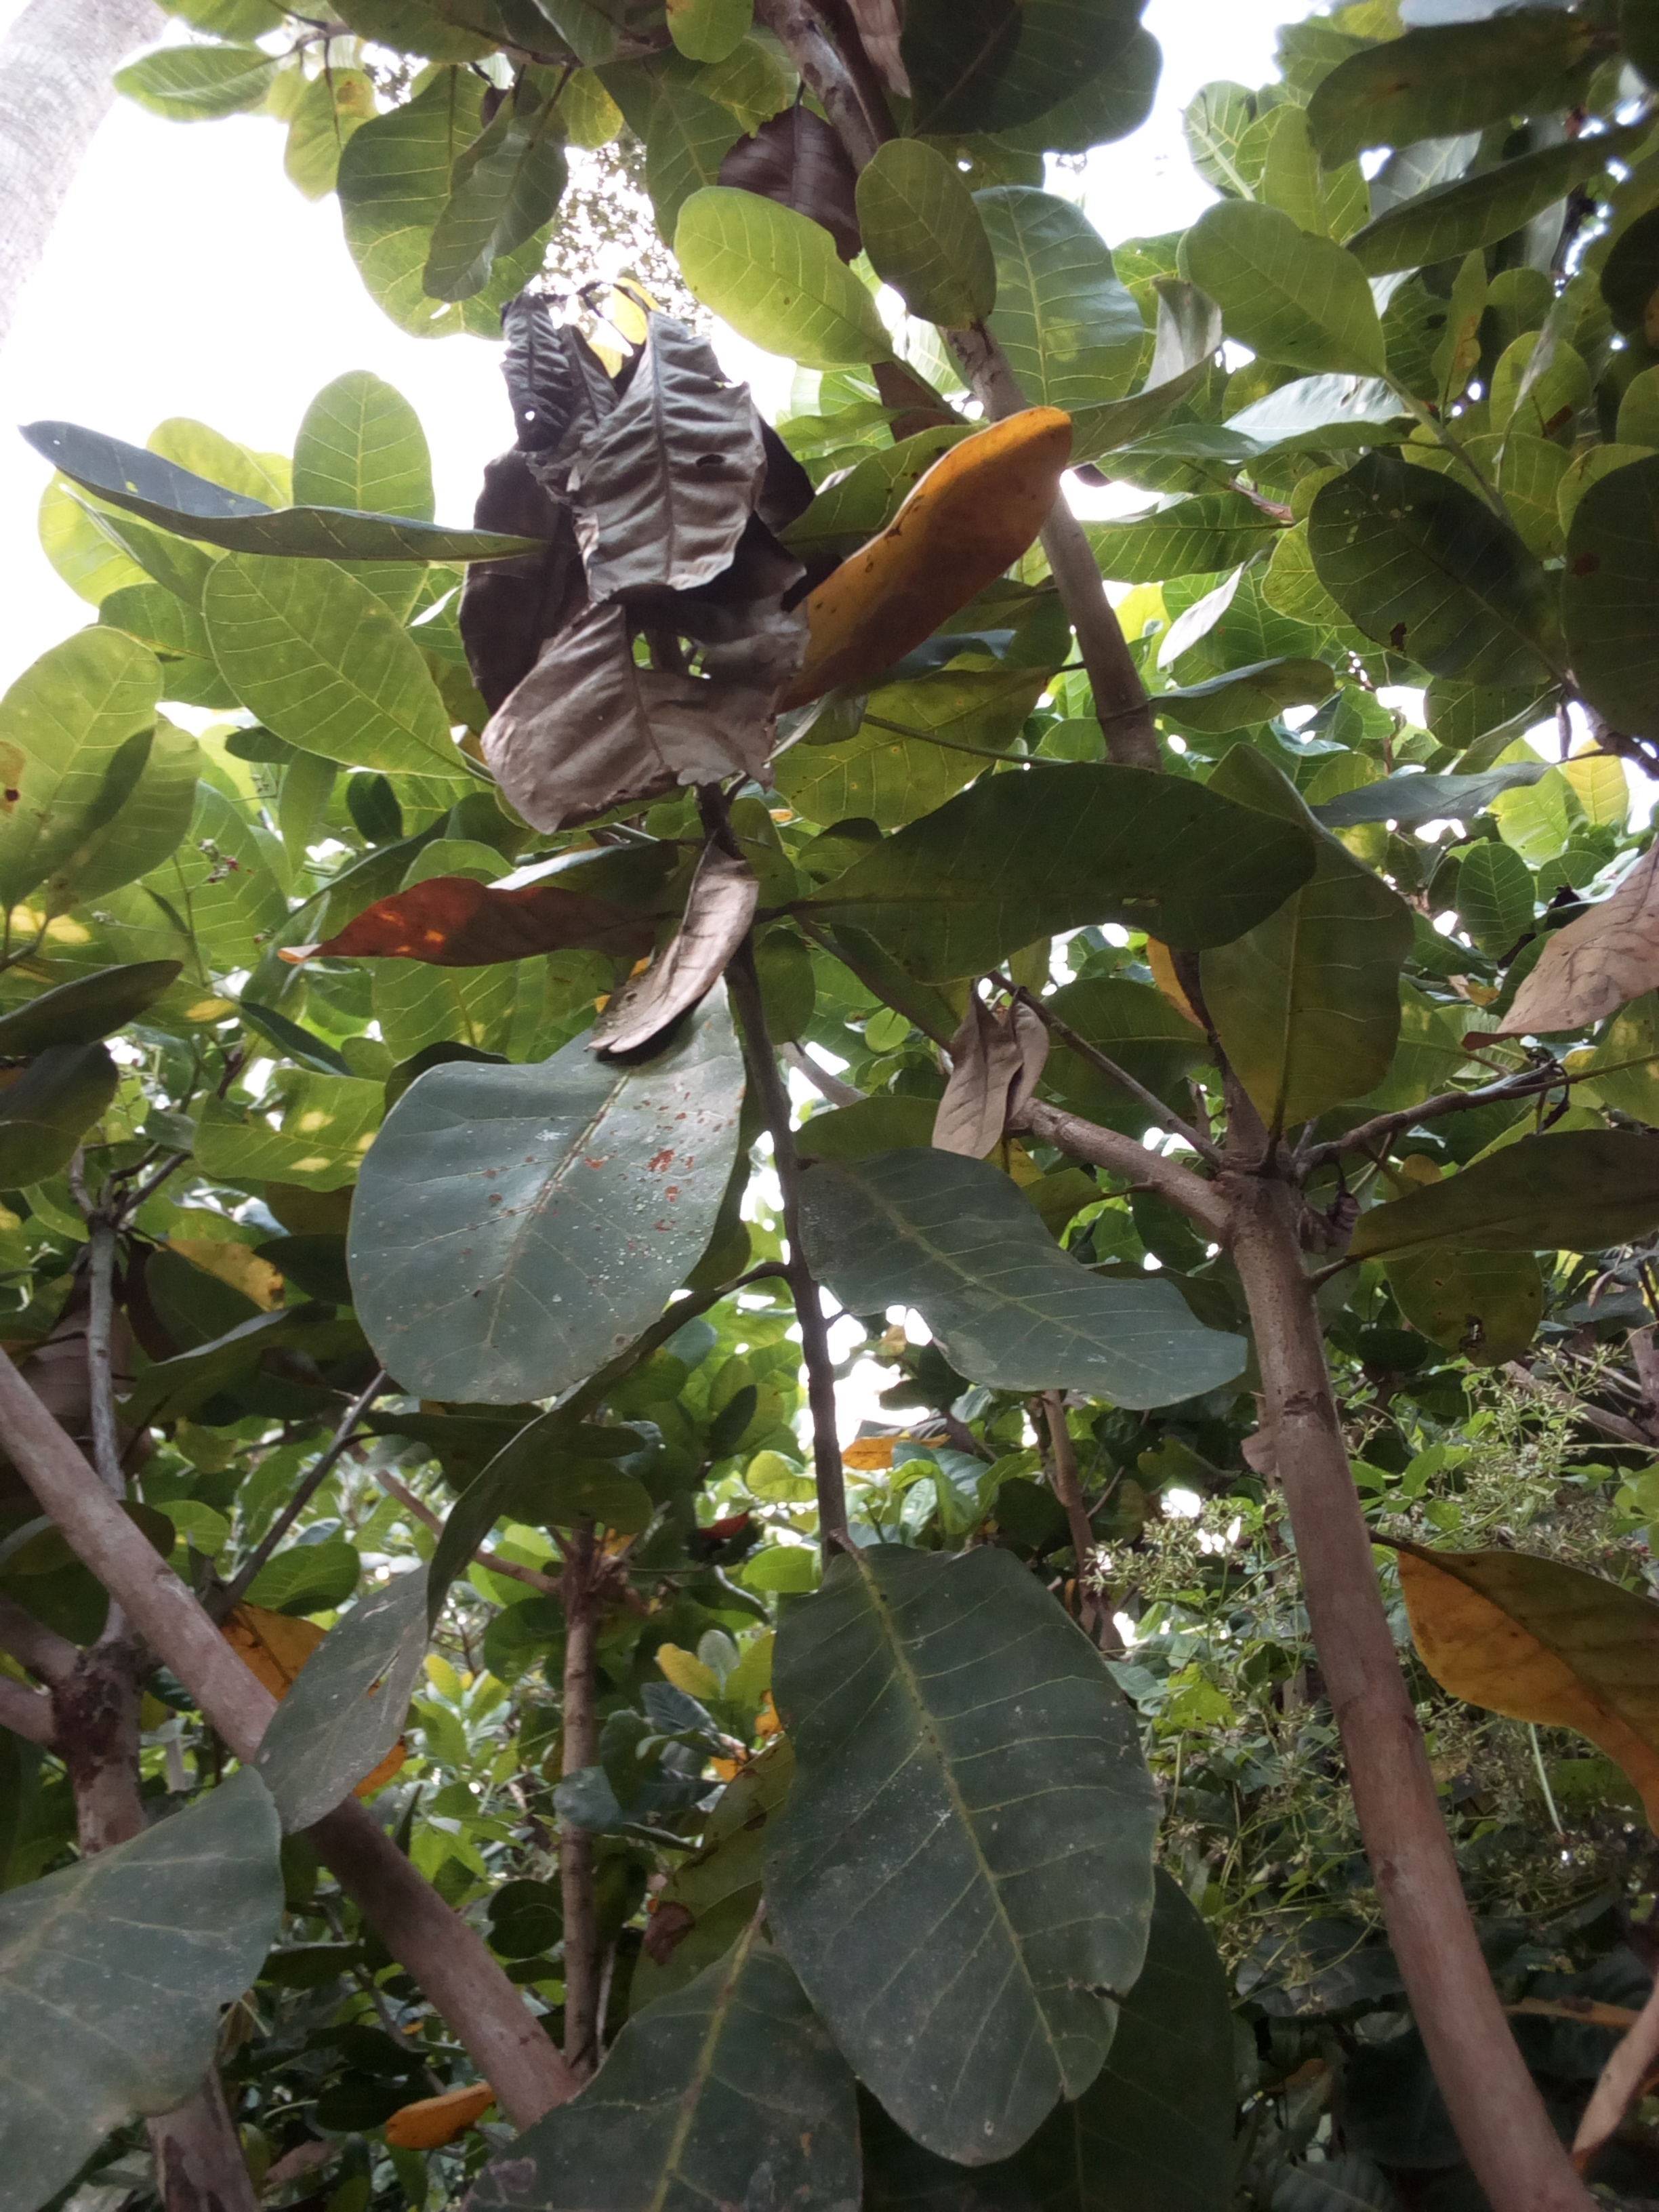Dessèchement des bourgeons: (491, 601, 793, 822), (572, 314, 755, 608), (1229, 1109, 1399, 1242)
